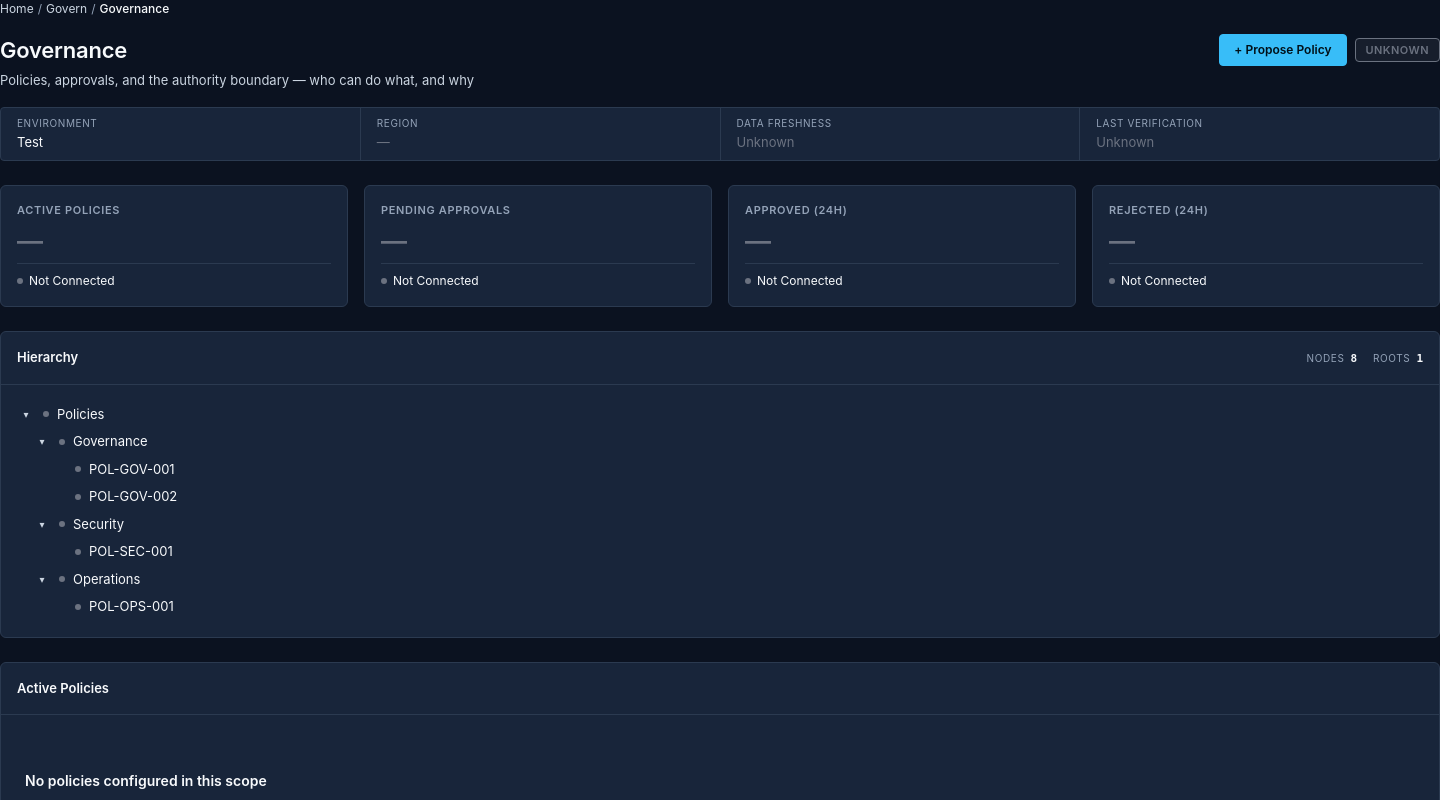
it: GovernancePage › cancelling closes the dialog
This screenshot has width=1440, height=800.
Click the button with test id "eg-governance-propose" at x=1283, y=50, box [1219,34,1346,66]
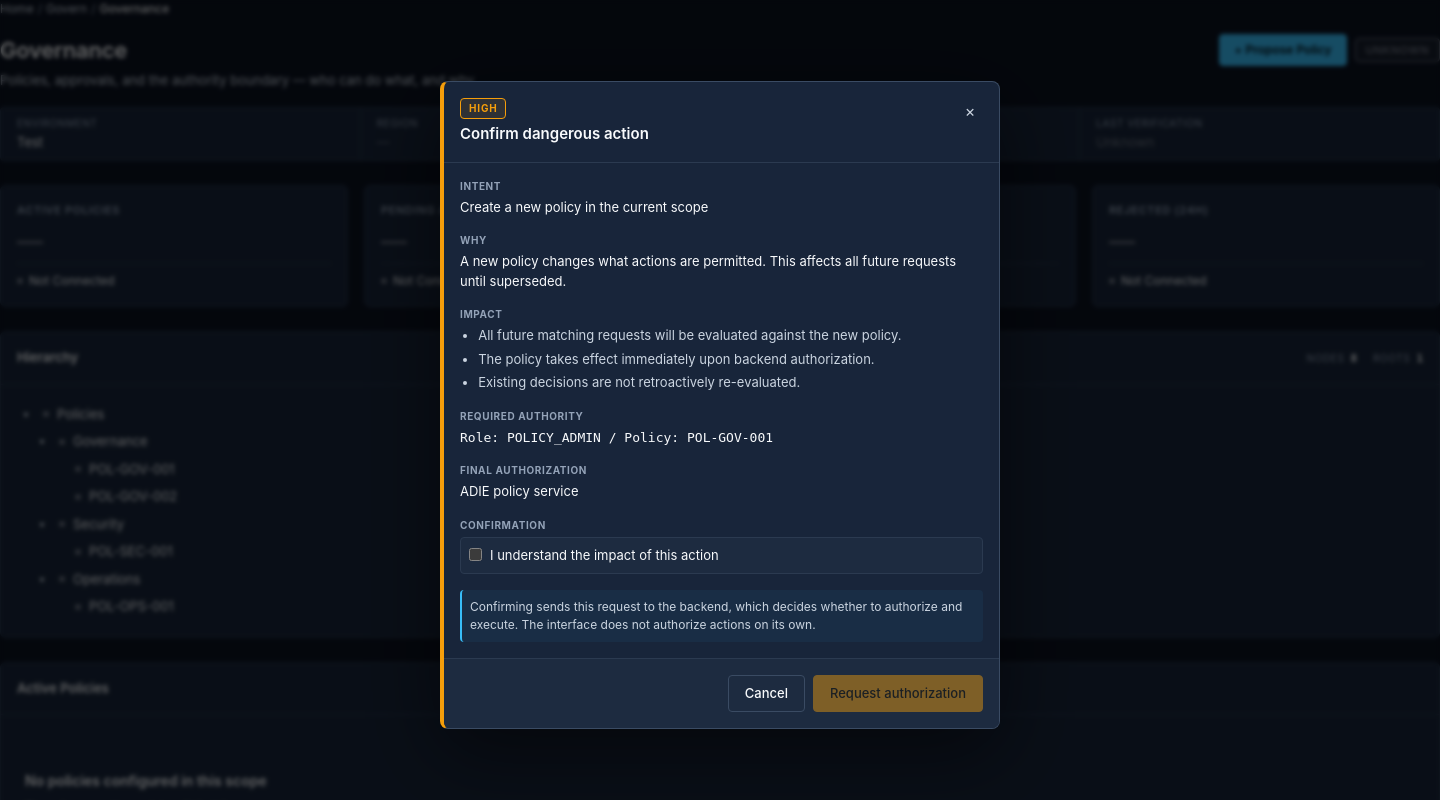
Check: the button with test id "eg-danger-cancel" is shown
Click the button with test id "eg-danger-cancel" at x=766, y=693, box [728,674,805,712]
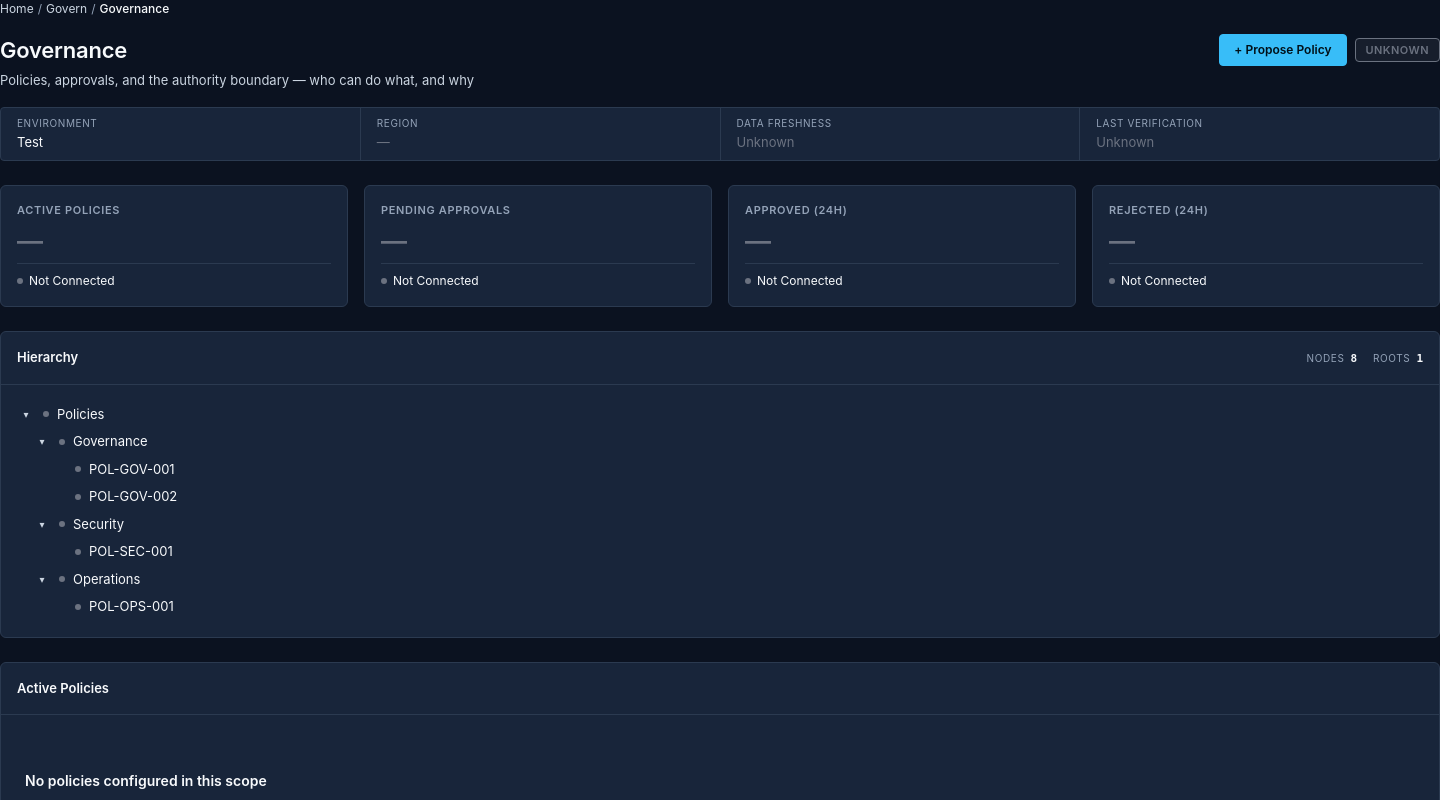
Check: the dialog with test id "eg-danger-dialog" is gone
